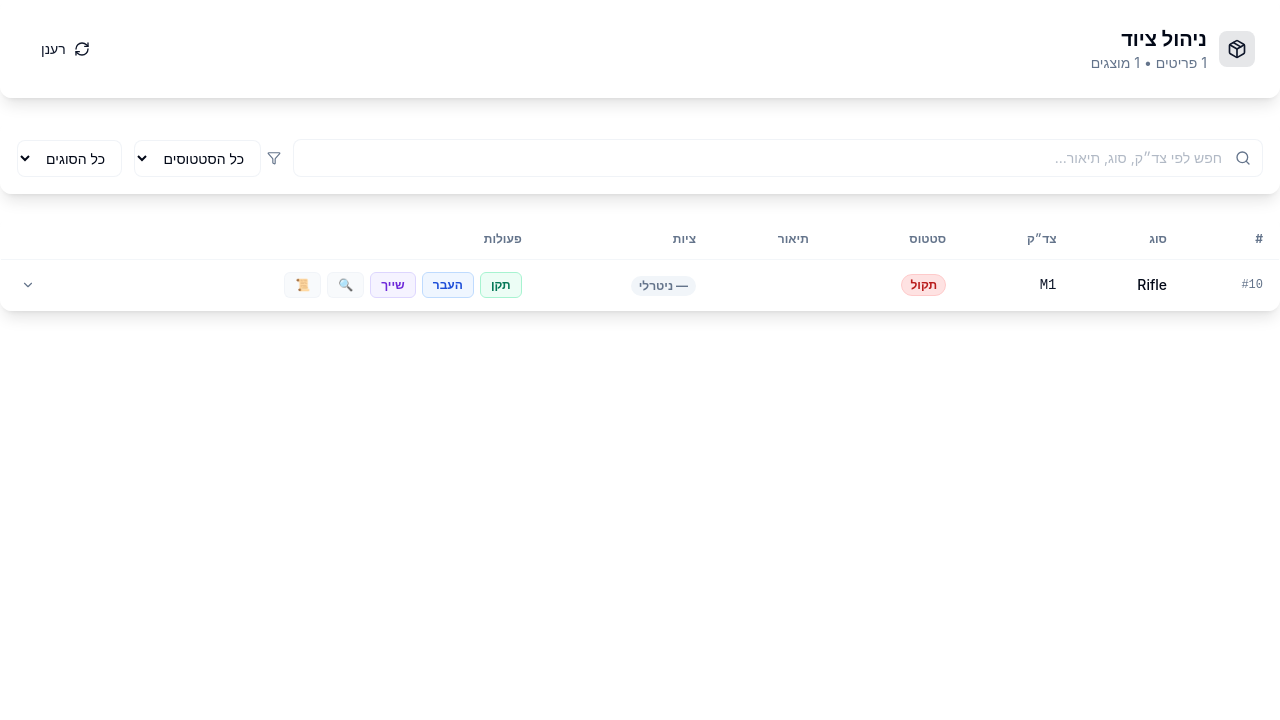
EquipmentPage שייך modal search: a newer term cancels the older request (FE-H5) › shows only the newest term's results, sent as a parameter, with no error logged
Click the button "שייך". click: point(393, 285)
box: [370,272,416,298]
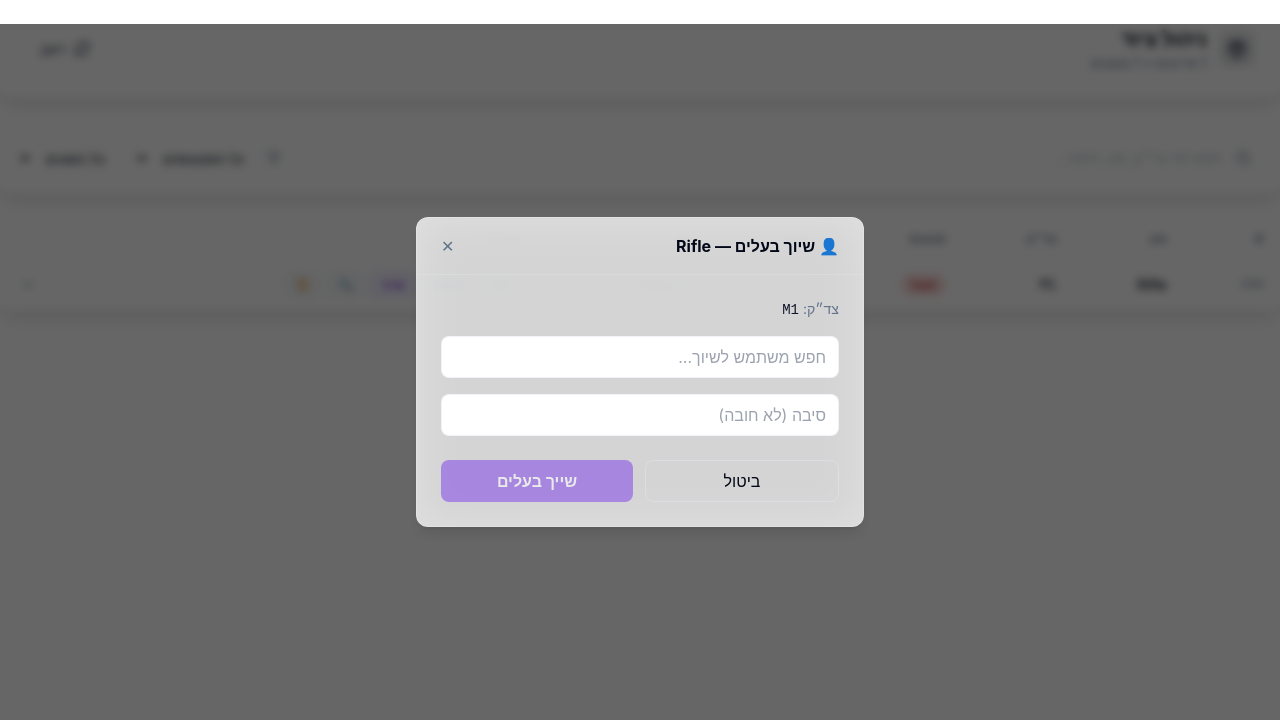
Type "ab" into the field with placeholder "חפש משתמש לשיוך...". click: point(640, 357)
box: [441,336,839,378]
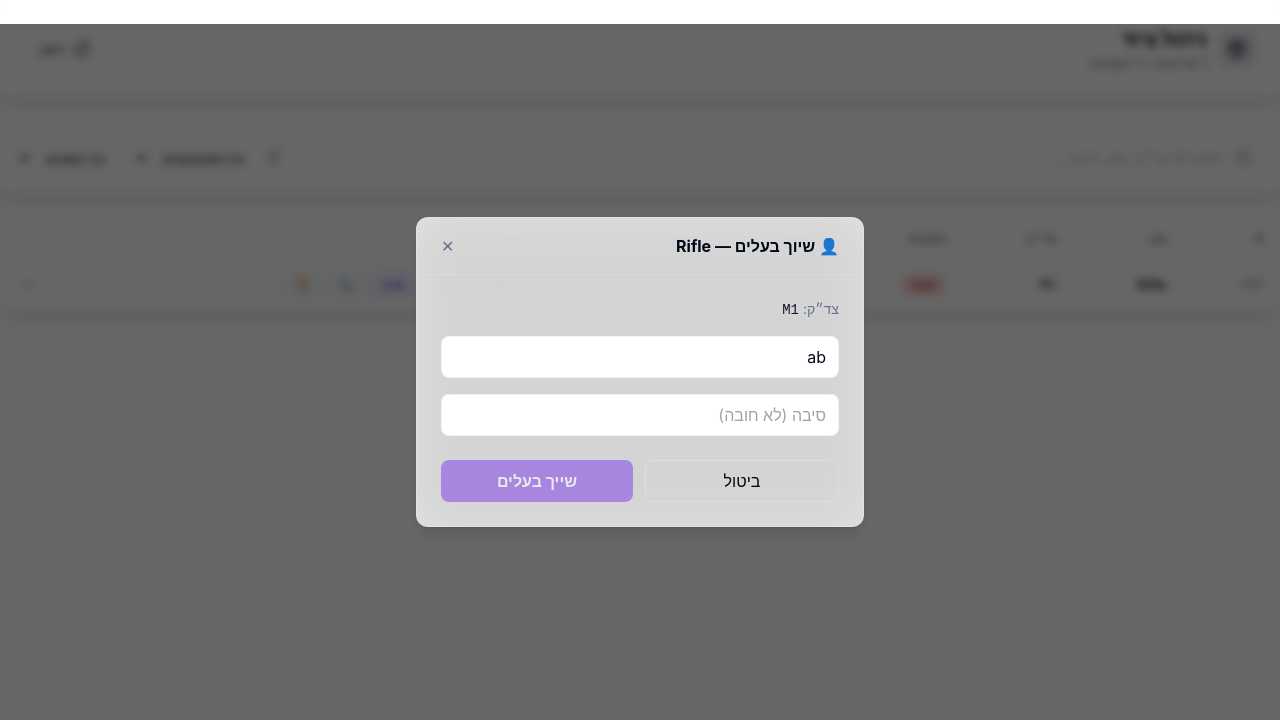
Replace the text in the field with placeholder "חפש משתמש לשיוך..." with "abc". click: point(640, 357)
box: [441,336,839,378]
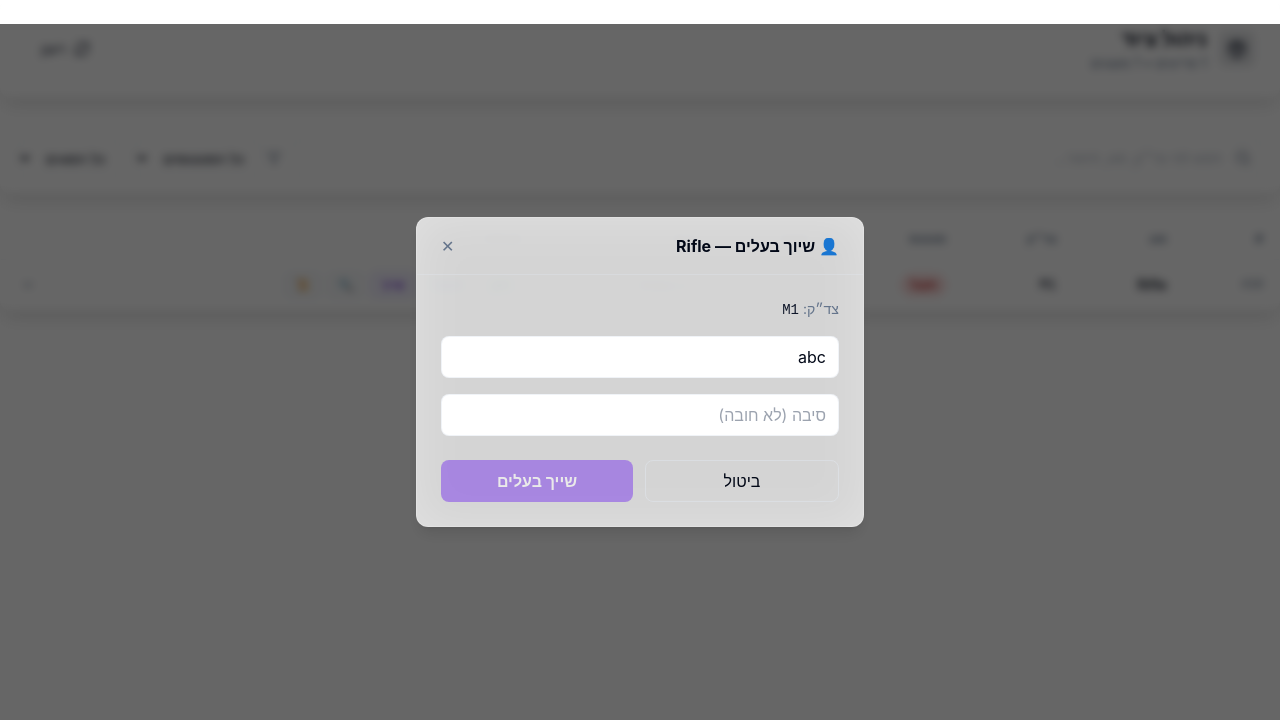
Replace the text in the field with placeholder "חפש משתמש לשיוך..." with "abcd". click: point(640, 357)
box: [441,336,839,378]
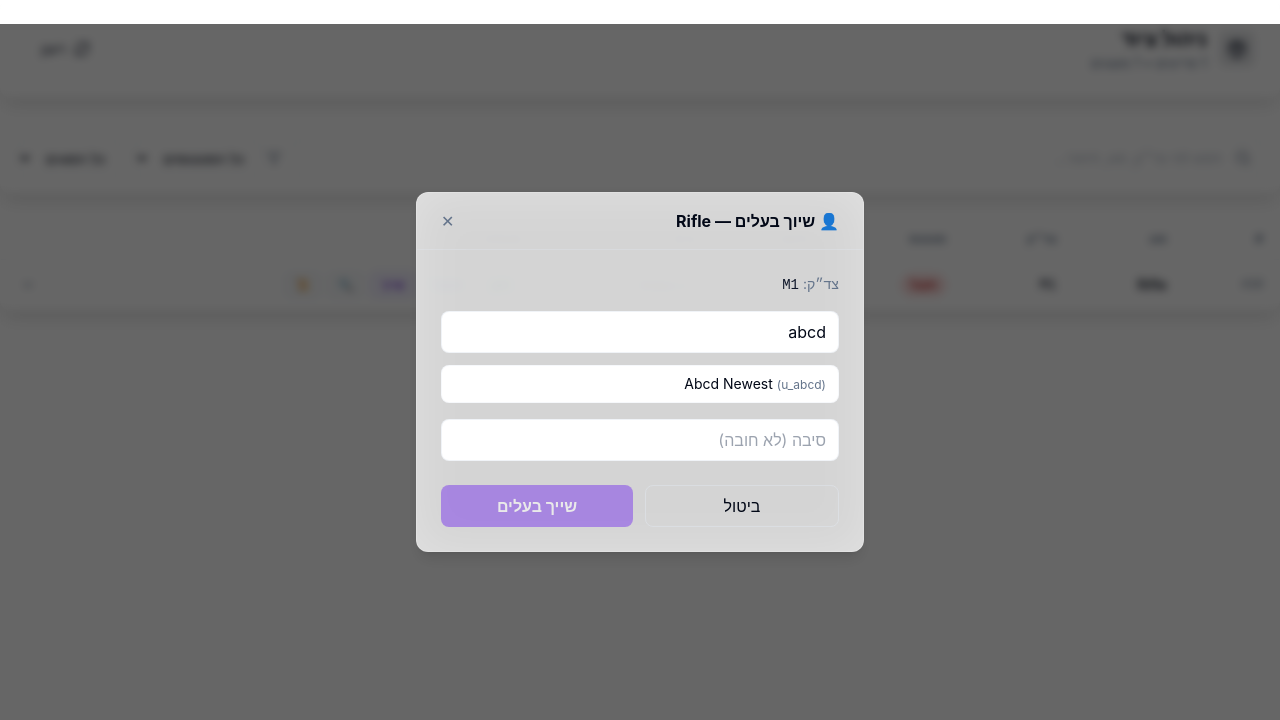
expect the button "Abcd Newest (u_abcd)" is shown: met, box [442,366,838,402]
